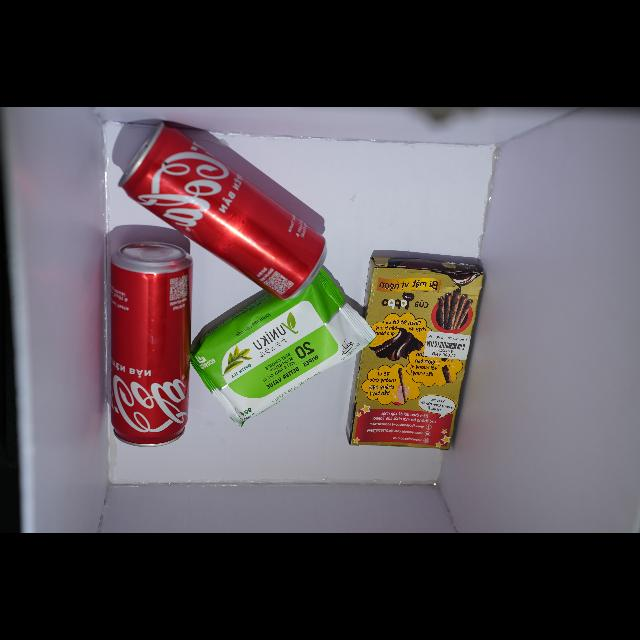banh_toppo_socola: (350, 257, 484, 450)
coca_cola: (119, 122, 326, 299), (110, 241, 192, 446)
khan_giay: (192, 269, 375, 425)
